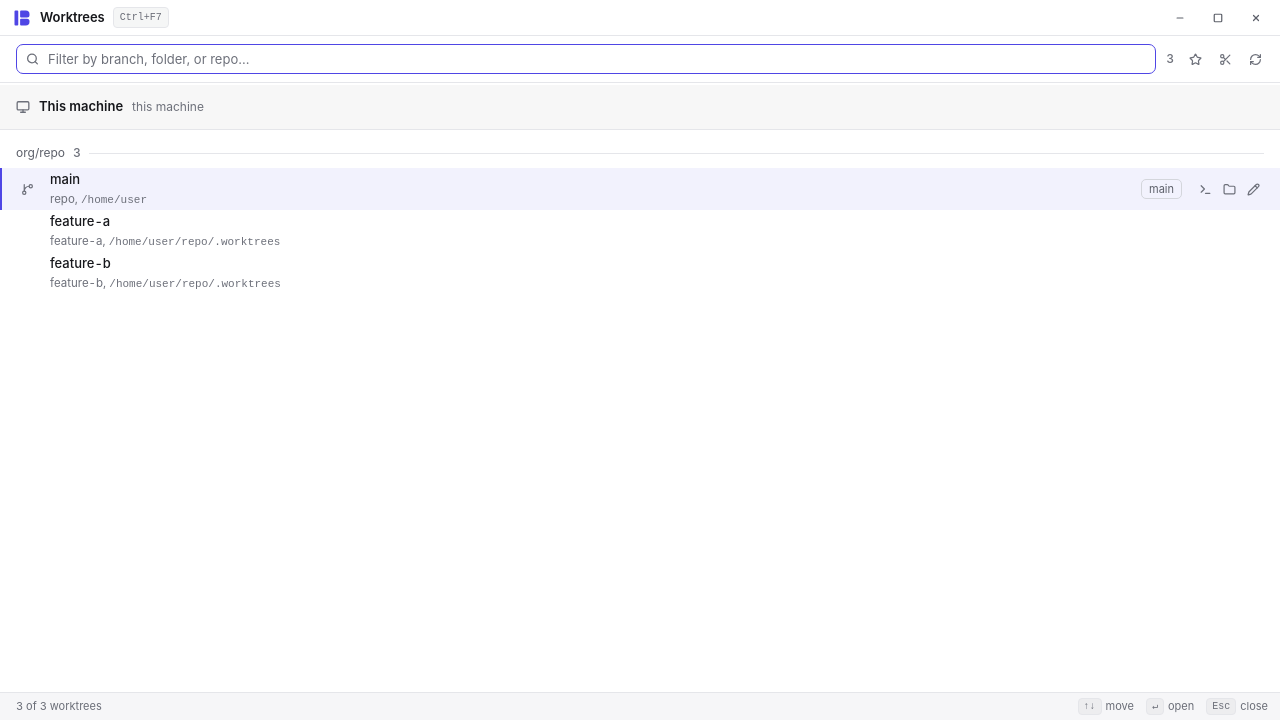
Scenario: WorktreePaletteApp › shows no results message when filter matches nothing
This screenshot has width=1280, height=720.
Type "nonexistent" into the field with placeholder "Filter by branch, folder, or repo..." at (586, 59), box 16,44 -> 1156,74
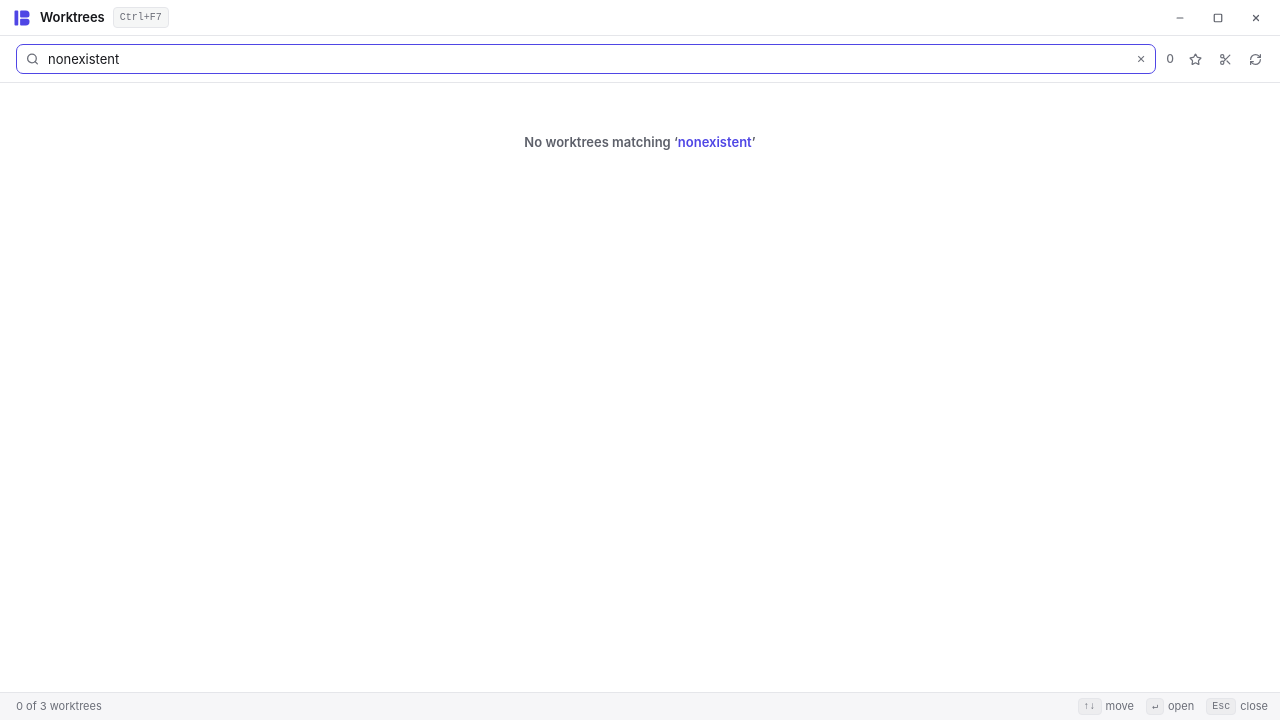
Result: the text "No worktrees matching ‘nonexistent’" is shown at 524,133 -> 756,152
